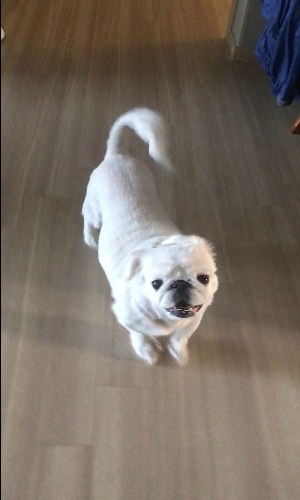ddubi: (79, 104, 222, 370)
